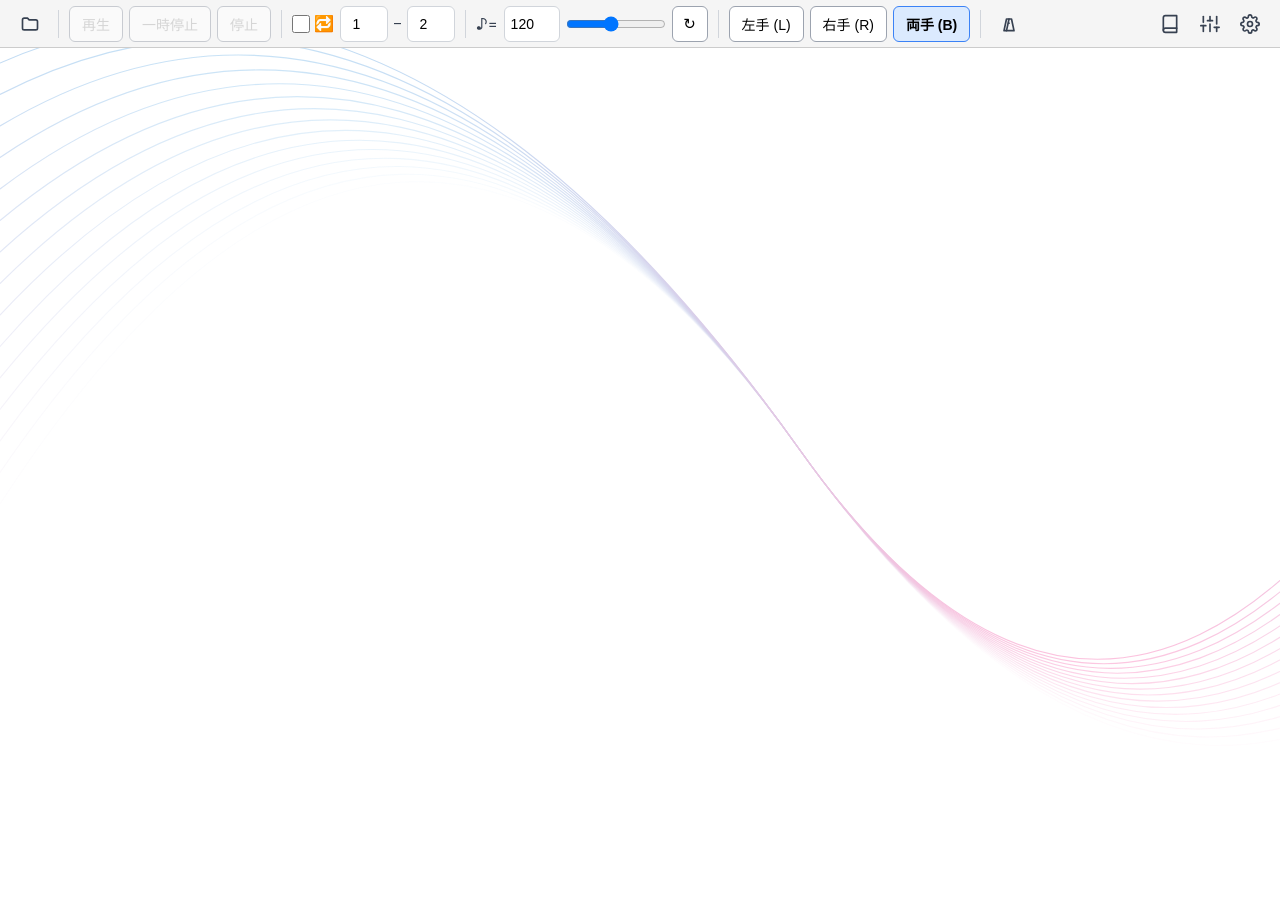
Header › QuickPanel (REQ-012-002/003) › opens the QuickPanel when the "..." button is clicked (2 clicks or fewer, REQ-012-002)
This screenshot has width=1280, height=900.
What coordinates should you click on to do the following:
click the button with test id "quick-panel-toggle"
I would click on:
 (1210, 24)
Its box is [1192,6,1228,42].
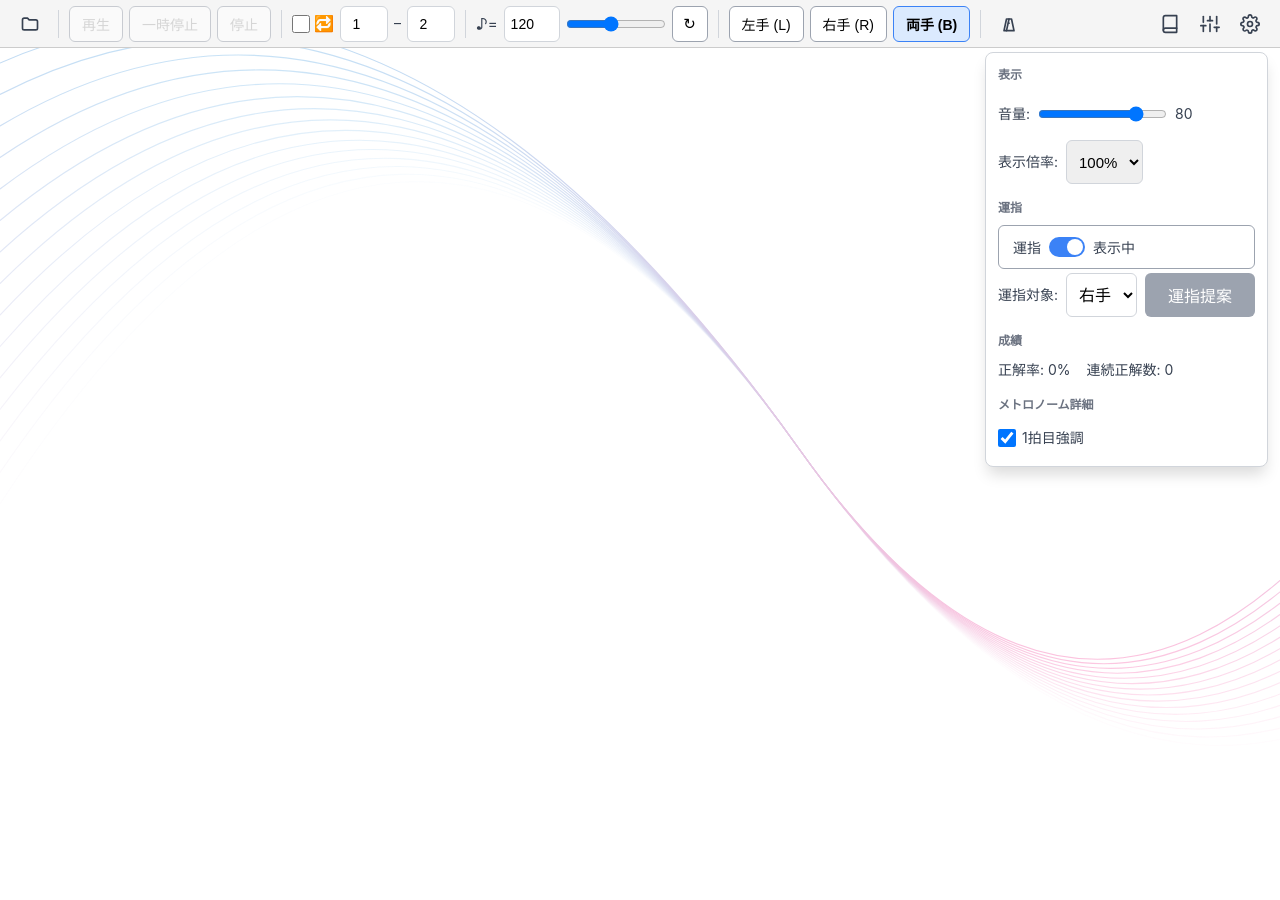
Result: the element with test id "quick-panel" is shown at [998,65,1255,454]
